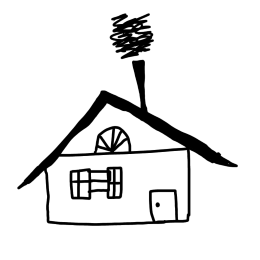closed_window: (67, 162, 126, 205), (90, 122, 137, 163)
door: (141, 184, 183, 230)
roof: (37, 84, 207, 160)
smoking_chimney: (108, 6, 154, 119)
wall: (37, 146, 197, 230)
